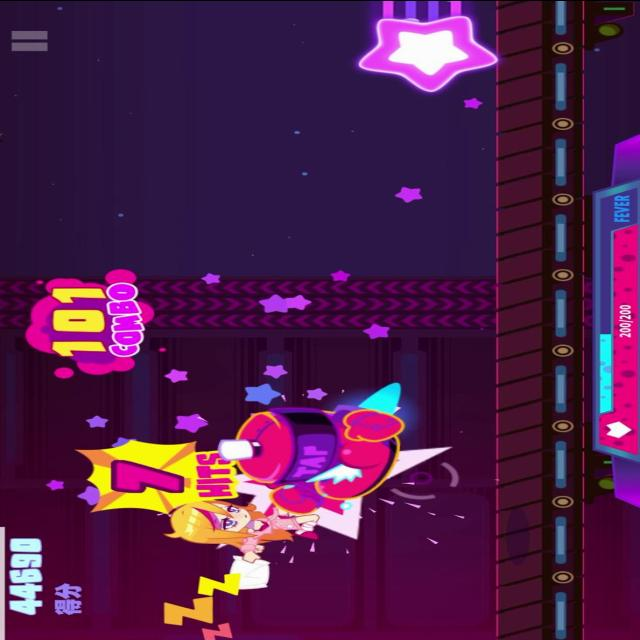hold: (357, 0, 482, 94)
tapboss: (214, 396, 408, 511)
